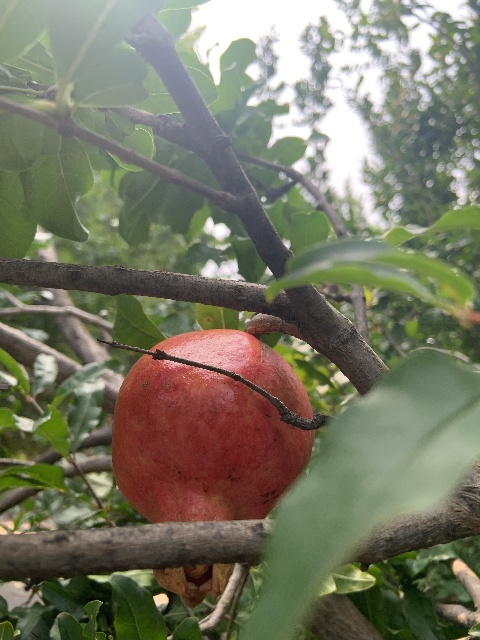ripe: (110, 329, 316, 607)
